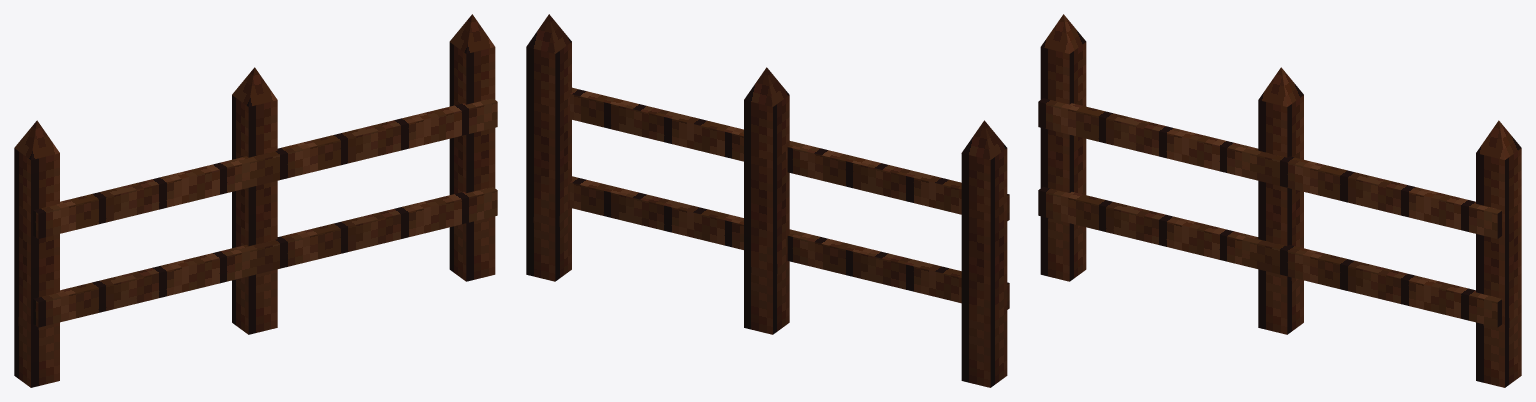
File: fence.glb
The picture shows the model from 3 angles, left to right: view 1: azimuth 30°, elevation 25°; view 2: azimuth 150°, elevation 25°; view 3: azimuth 330°, elevation 25°; orthographic projection.
Visible parts, largest first — view 1: fence; view 2: fence; view 3: fence.
Boxes of the visible parts, box(x1,y1,x2,y2) form: fence: box(14, 14, 497, 387); fence: box(526, 14, 1009, 387); fence: box(1038, 14, 1521, 387).
Bounding box in the file's own units: 1.92 × 1.02 × 0.1551.
1 material, 1 textured.
